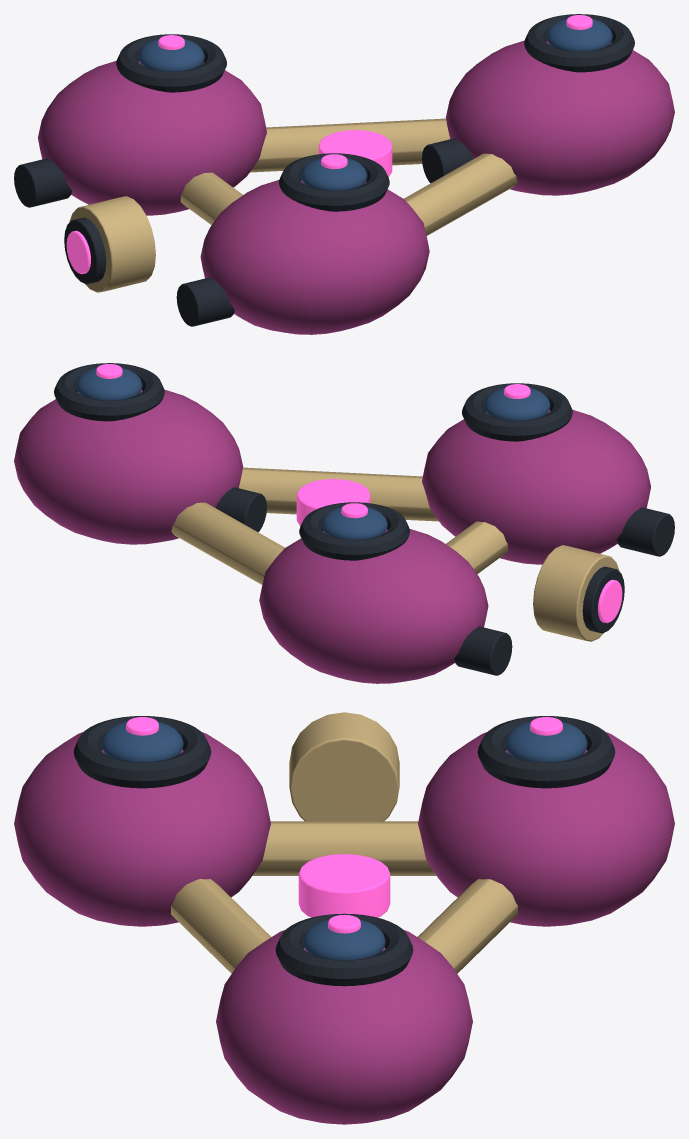
Rendered from sybil-v3.glb.
3 views of the same model, one above another, from view 1: azimuth 30°, elevation 25°; view 2: azimuth 150°, elevation 25°; view 3: azimuth 270°, elevation 25° (orthographic). The views are drawn at different scales.
Visible parts, largest first — view 1: armoured clone pod, armoured clone pod.002, armoured clone pod.001, clonal spine.001, main drive collar, clonal spine.002, pod eye collar, pod eye collar.002, pod eye collar.001, pod drive, pod drive.001, clonal spine (+7 smaller); view 2: armoured clone pod.001, armoured clone pod.002, armoured clone pod, clonal spine.002, main drive collar, clonal spine.001, pod eye collar.001, pod eye collar.002, pod eye collar, pod drive.001, pod drive, clonal spine (+7 smaller); view 3: armoured clone pod.002, armoured clone pod, armoured clone pod.001, main drive collar, clonal spine, pod eye collar, pod eye collar.001, central clone relay, pod eye collar.002, clonal spine.001, clonal spine.002, clone sensor (+2 smaller).
Part boxes in pixels (<box>): armoured clone pod: <box>200,180,429,334</box>; armoured clone pod.002: <box>445,41,674,195</box>; armoured clone pod.001: <box>38,61,266,215</box>; clonal spine.001: <box>250,118,449,172</box>; main drive collar: <box>69,196,155,292</box>; clonal spine.002: <box>404,153,517,235</box>; pod eye collar: <box>279,153,389,211</box>; pod eye collar.002: <box>524,14,634,72</box>; pod eye collar.001: <box>116,34,226,92</box>; pod drive: <box>176,277,234,326</box>; pod drive.001: <box>14,158,72,207</box>; clonal spine: <box>180,172,242,224</box>; armoured clone pod.001: <box>259,529,488,683</box>; armoured clone pod.002: <box>14,390,243,544</box>; armoured clone pod: <box>422,410,650,564</box>; clonal spine.002: <box>239,467,438,521</box>; main drive collar: <box>533,545,619,641</box>; clonal spine.001: <box>171,502,284,584</box>; pod eye collar.001: <box>299,502,409,560</box>; pod eye collar.002: <box>54,363,164,421</box>; pod eye collar: <box>462,383,572,441</box>; pod drive.001: <box>454,626,512,675</box>; pod drive: <box>616,507,674,556</box>; clonal spine: <box>446,521,508,573</box>; armoured clone pod.002: <box>216,930,472,1124</box>; armoured clone pod: <box>14,732,270,926</box>; armoured clone pod.001: <box>418,732,674,926</box>; main drive collar: <box>289,712,399,821</box>; clonal spine: <box>252,821,436,875</box>; pod eye collar: <box>73,716,211,788</box>; pod eye collar.001: <box>477,716,615,788</box>; central clone relay: <box>298,854,390,917</box>; pod eye collar.002: <box>275,913,413,986</box>; clonal spine.001: <box>417,879,517,973</box>; clonal spine.002: <box>171,879,271,973</box>; clone sensor: <box>101,721,183,762</box>.
Bounding box in the file's own units: 91.5 × 23.5 × 72.
